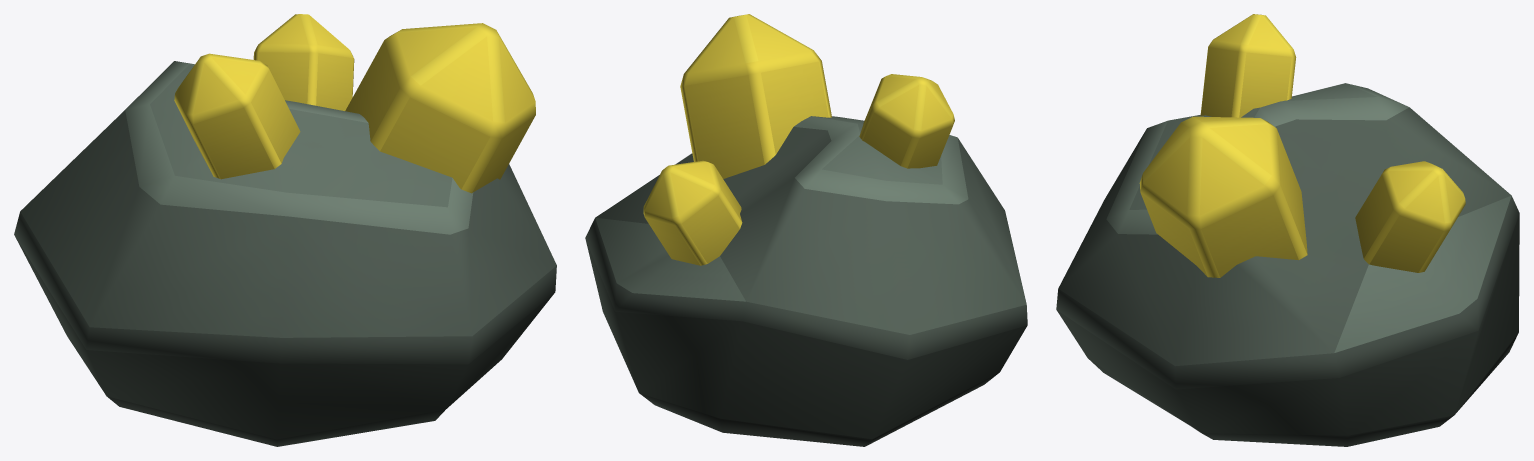
The model's file is ore_christal_topaz_S.fbx.
3 renders of one model, left to right at view 1: azimuth 30°, elevation 25°; view 2: azimuth 150°, elevation 25°; view 3: azimuth 270°, elevation 25°, orthographic. The views are drawn at different scales.
Visible parts, largest first — view 1: ore_christal_topaz_S; view 2: ore_christal_topaz_S; view 3: ore_christal_topaz_S.
Part boxes in pixels (x1,y1,x2,y2): ore_christal_topaz_S: [14, 14, 556, 446]; ore_christal_topaz_S: [585, 14, 1027, 446]; ore_christal_topaz_S: [1056, 14, 1519, 446].
Bounding box in the file's own units: 115 × 96.07 × 110.
1 material, 1 textured.
